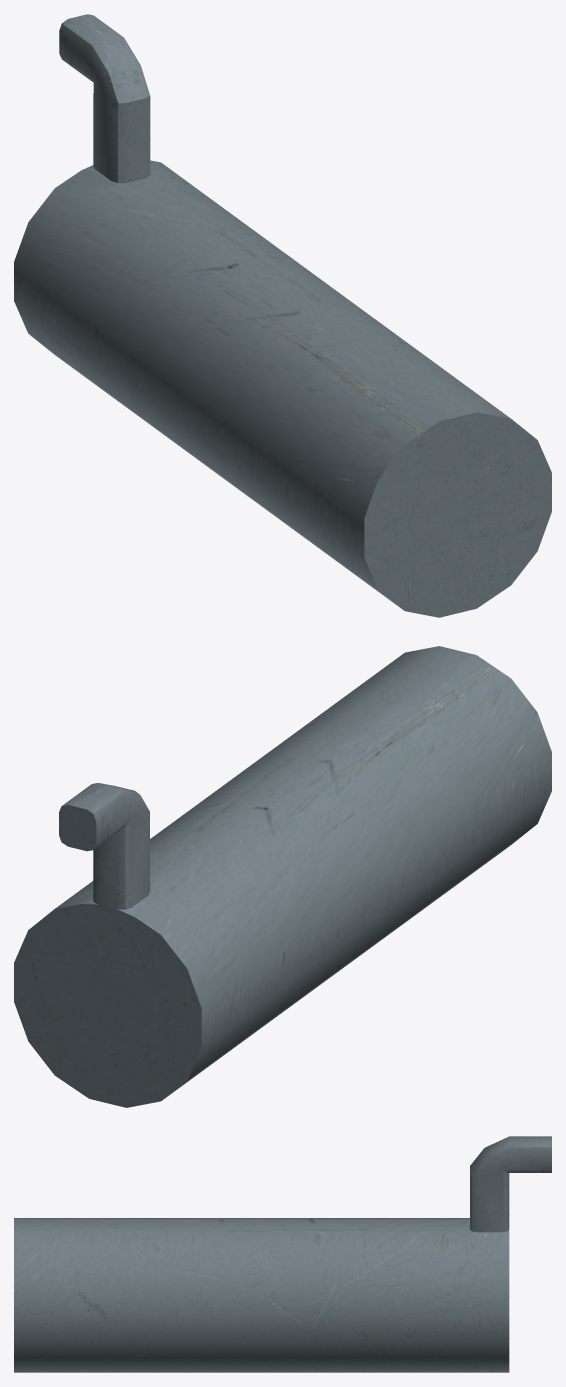
The model's file is Rotator.FBX.
3 renders of one model, top to bottom at view 1: azimuth 30°, elevation 25°; view 2: azimuth 150°, elevation 25°; view 3: azimuth 270°, elevation 25°, orthographic. The views are drawn at different scales.
Visible parts, largest first — view 1: Rotator; view 2: Rotator; view 3: Rotator.
Part boxes in pixels (bbox=[...]): Rotator: bbox=[14, 14, 551, 617]; Rotator: bbox=[14, 646, 551, 1107]; Rotator: bbox=[14, 1136, 551, 1372].
Size of the model in its own units: 11.49 by 40.35 by 18.62.
